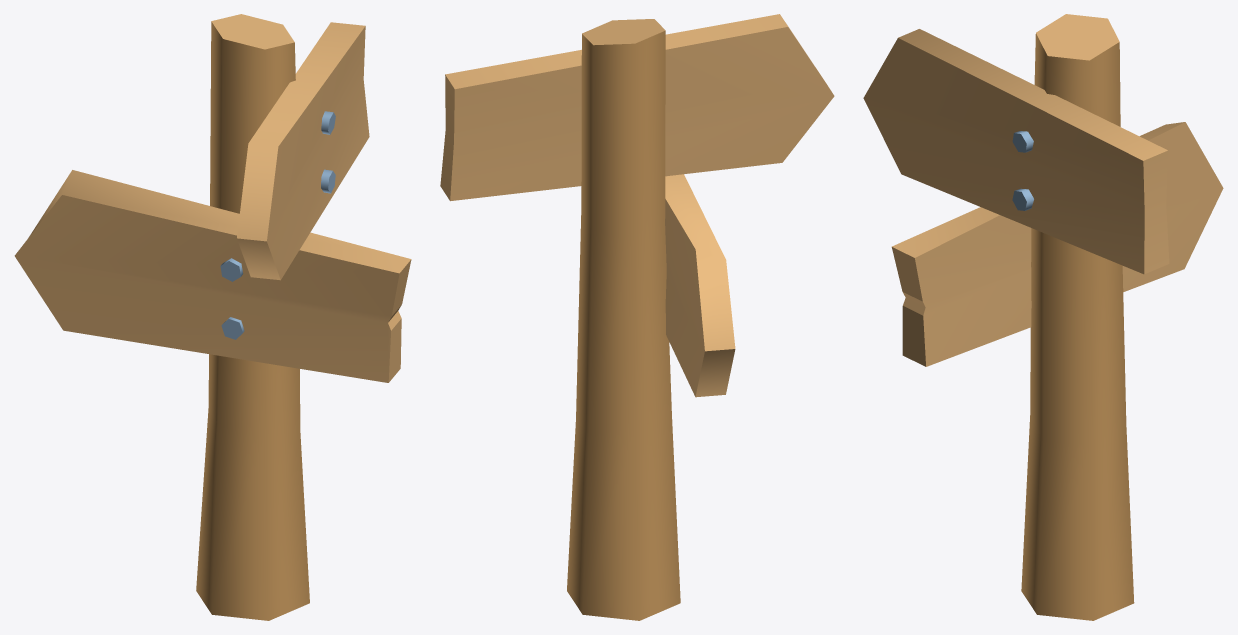
File: DirectionSign.fbx
3 views of the same model, side by side, from view 1: azimuth 30°, elevation 25°; view 2: azimuth 150°, elevation 25°; view 3: azimuth 270°, elevation 25° (orthographic).
Visible parts, largest first — view 1: DirectionSign; view 2: DirectionSign; view 3: DirectionSign.
Boxes of the visible parts, bbox=[...] form: DirectionSign: bbox=[14, 14, 411, 620]; DirectionSign: bbox=[440, 14, 834, 620]; DirectionSign: bbox=[863, 14, 1223, 620].
Bounding box in the file's own units: 3.63 × 6.1 × 3.52.
